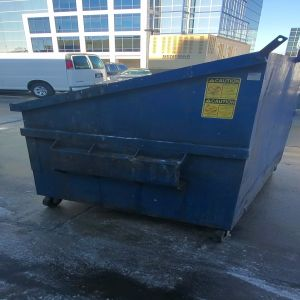Dumpster: (17, 51, 300, 242)
